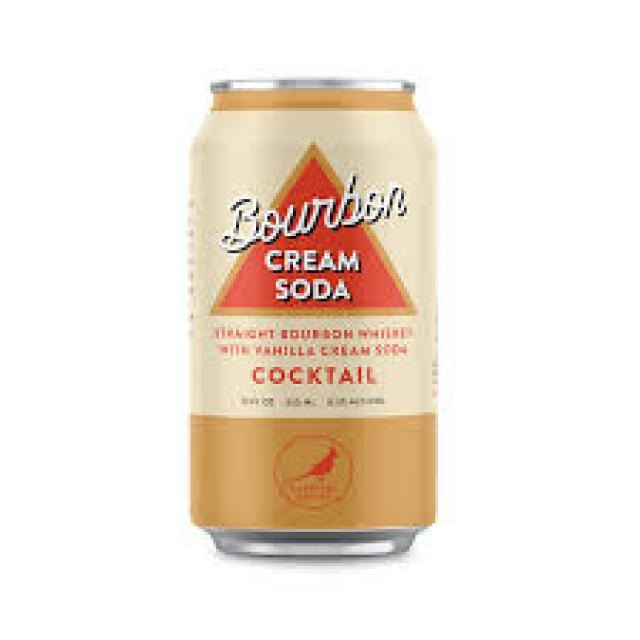Cans: (168, 65, 458, 572)
